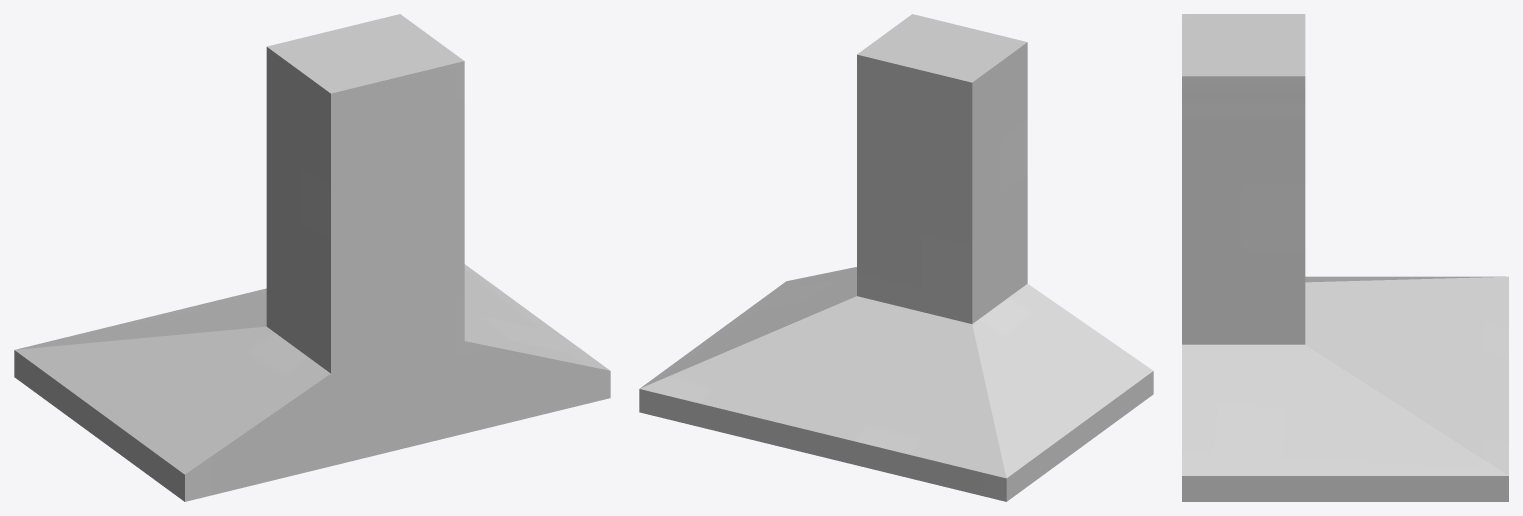
The model's file is KitchenExhaust01.glb.
3 views of the same model, side by side, from view 1: azimuth 30°, elevation 25°; view 2: azimuth 150°, elevation 25°; view 3: azimuth 270°, elevation 25° (orthographic). The views are drawn at different scales.
Parts seen in each view (by area): view 1: KitchenExhaust01_model; view 2: KitchenExhaust01_model; view 3: KitchenExhaust01_model.
Part boxes in pixels (box(x1,y1,x2,y2)): KitchenExhaust01_model: box(14, 14, 610, 501); KitchenExhaust01_model: box(639, 14, 1153, 501); KitchenExhaust01_model: box(1182, 14, 1508, 501).
Size of the model in its own units: 1.22 by 1.02 by 0.8459.
Materials: 1 (1 with a texture image).
